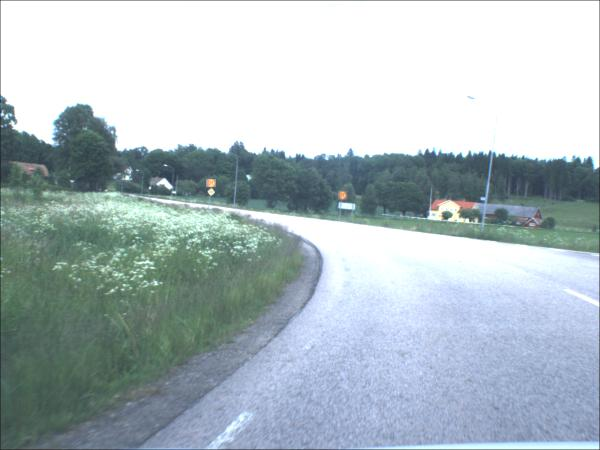70_SIGN: (338, 192, 348, 202), (206, 180, 217, 189)
PRIORITY_ROAD: (206, 189, 216, 198)
